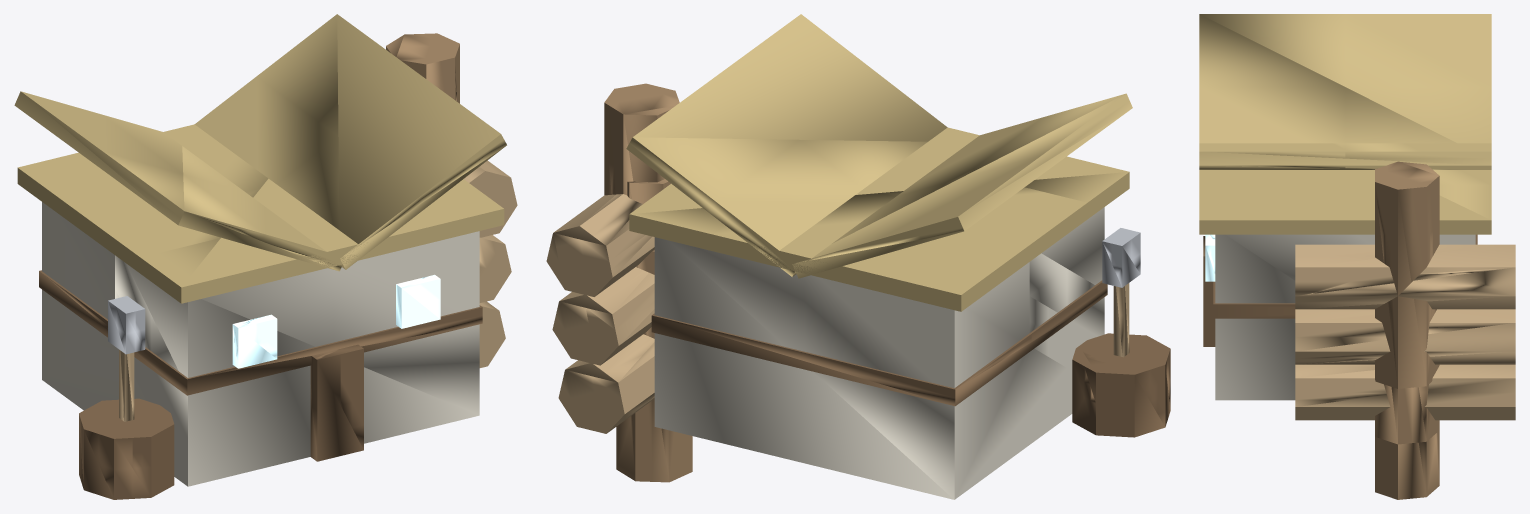
File: woodcutter.glb
The picture shows the model from 3 angles, left to right: view 1: azimuth 30°, elevation 25°; view 2: azimuth 150°, elevation 25°; view 3: azimuth 270°, elevation 25°; orthographic projection. The views are drawn at different scales.
Parts seen in each view (by area): view 1: WoodcutterWall; view 2: WoodcutterWall; view 3: WoodcutterWall.
Boxes of the visible parts, bbox=[...] form: WoodcutterWall: bbox=[14, 14, 517, 499]; WoodcutterWall: bbox=[546, 14, 1170, 499]; WoodcutterWall: bbox=[1199, 14, 1515, 499].
Bounding box in the file's own units: 2.35 × 1.78 × 1.58.
